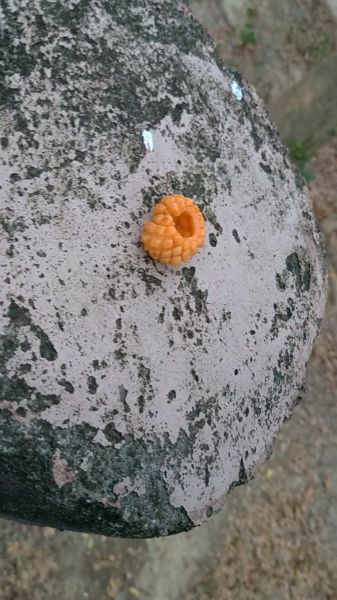eggs: (131, 191, 215, 269)
